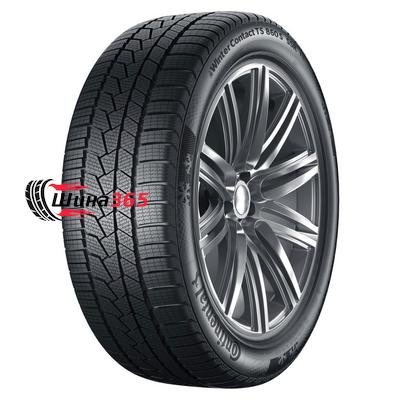objects: (25, 178, 149, 222)
